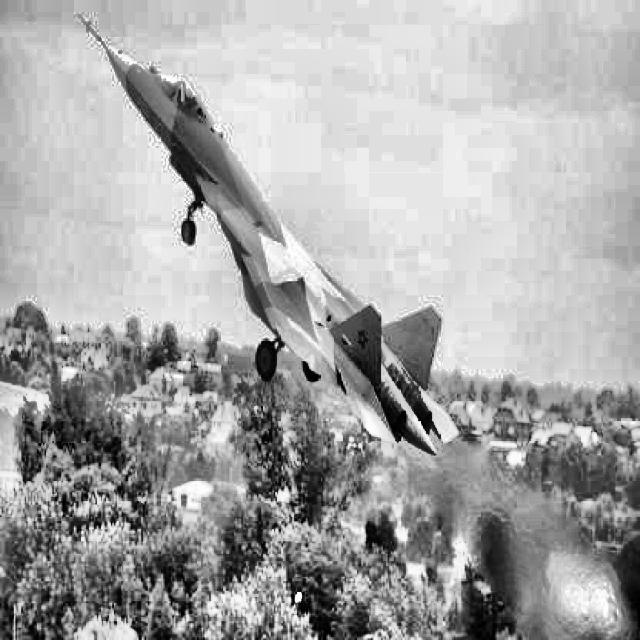Su57: (76, 12, 459, 457)
